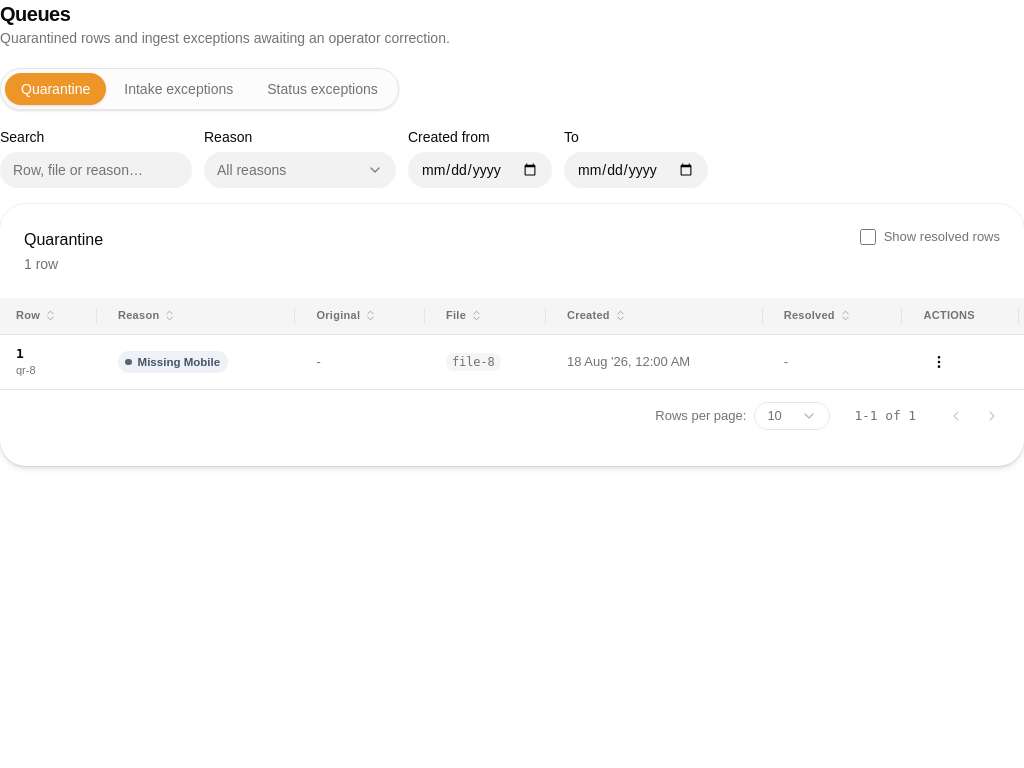
QueuesPage › treats a deduped replay as done, not as a refused correction
expect the text "file-8" is shown: met, box [446,352,501,370]
Step 1. Click the button named "Actions for quarantine row qr-8" → [940, 362], box [924,346,956,378]
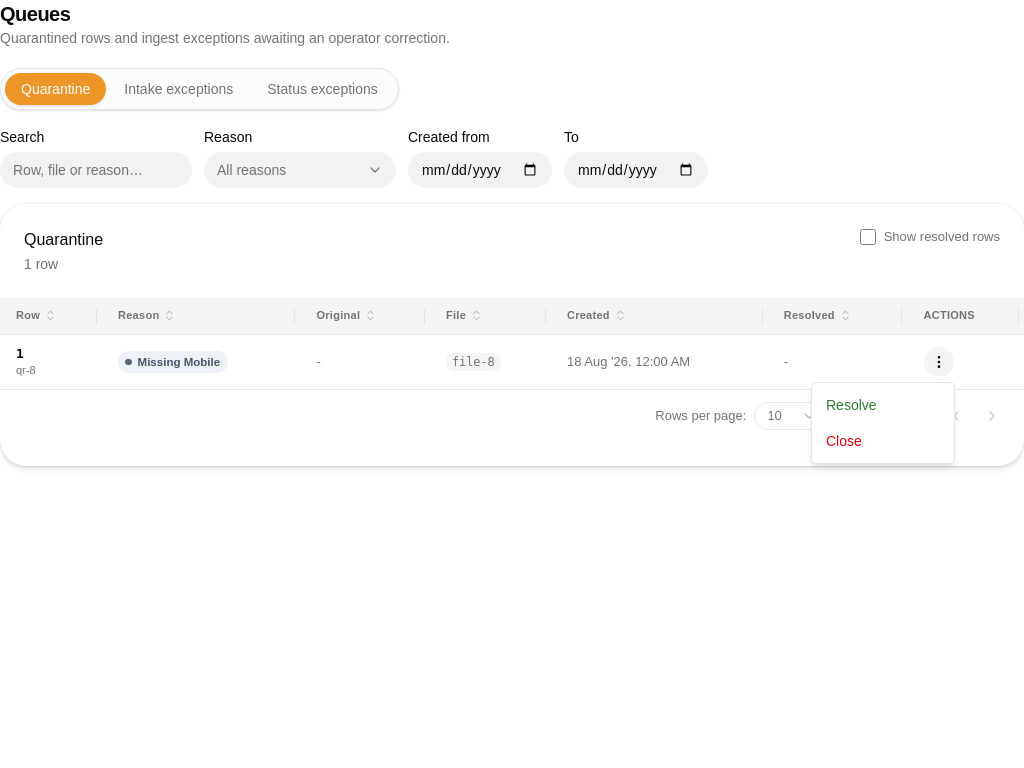
Step 2. Click the menu item with aria-label "resolve quarantine row qr-8" → [851, 405], box [826,397,877,413]
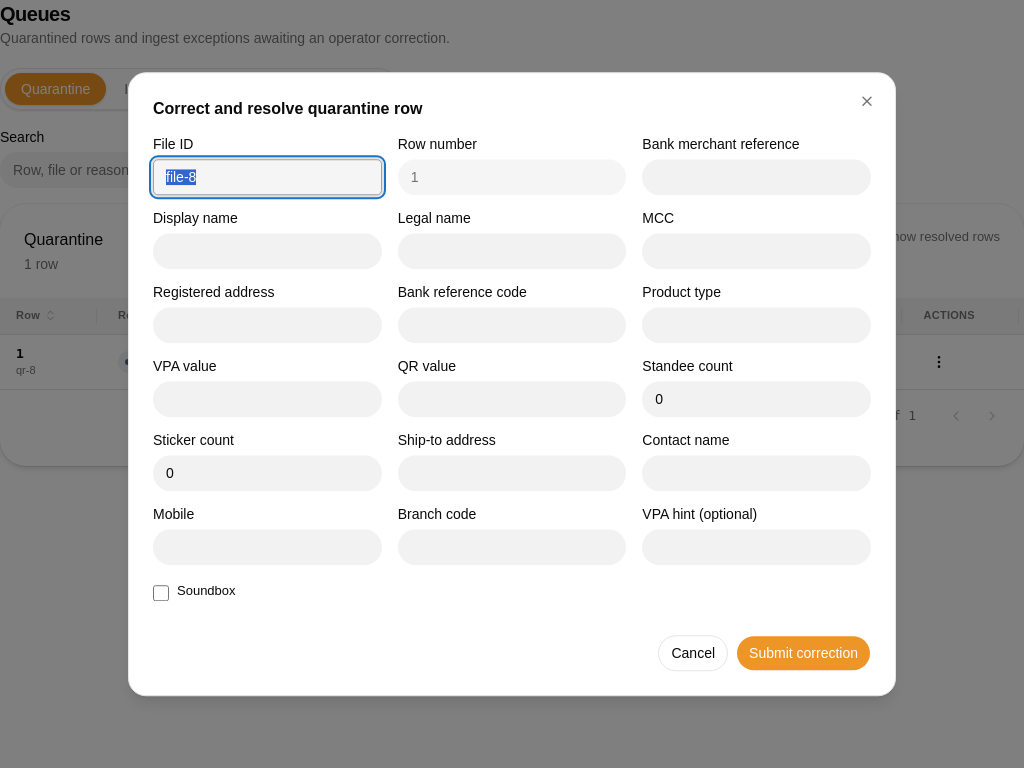
Step 3. Click the button "Submit correction" → [804, 653], box [736,635,871,671]
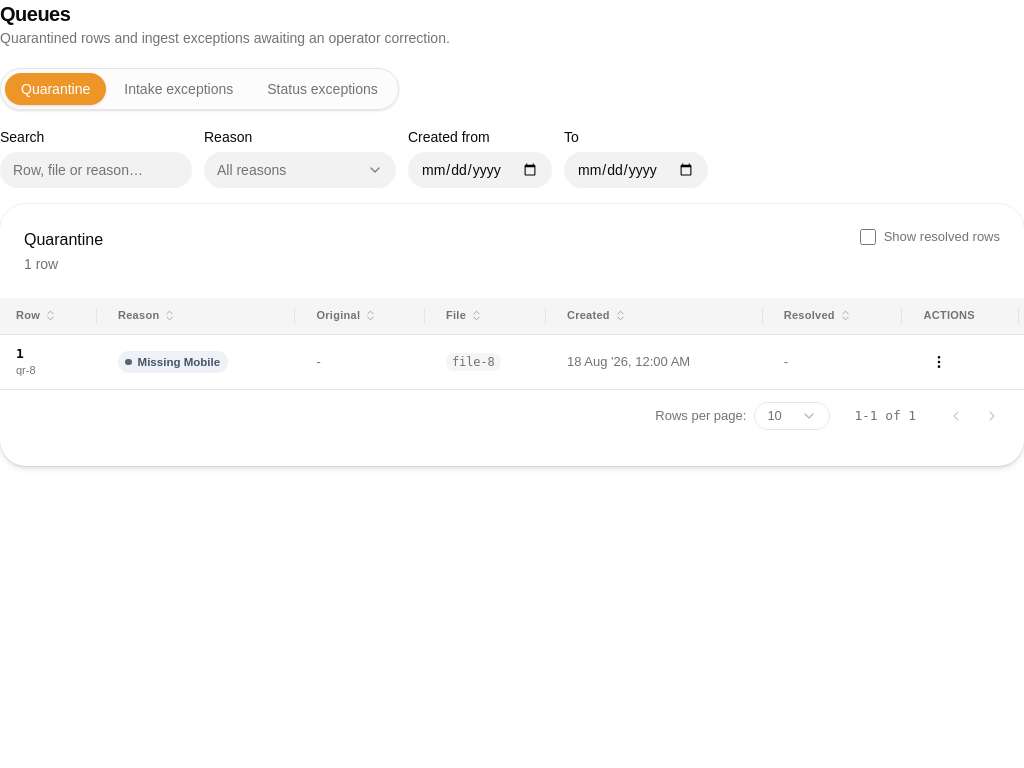
expect the button "Submit correction" is gone: met
